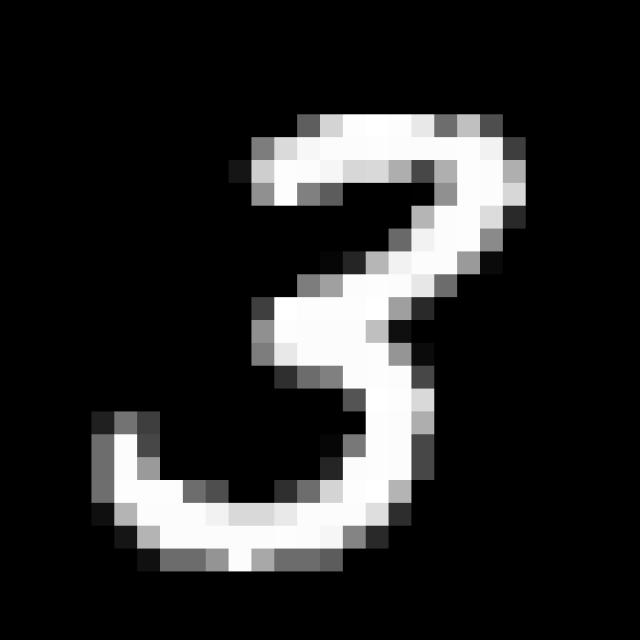three -3-: (89, 91, 542, 578)
